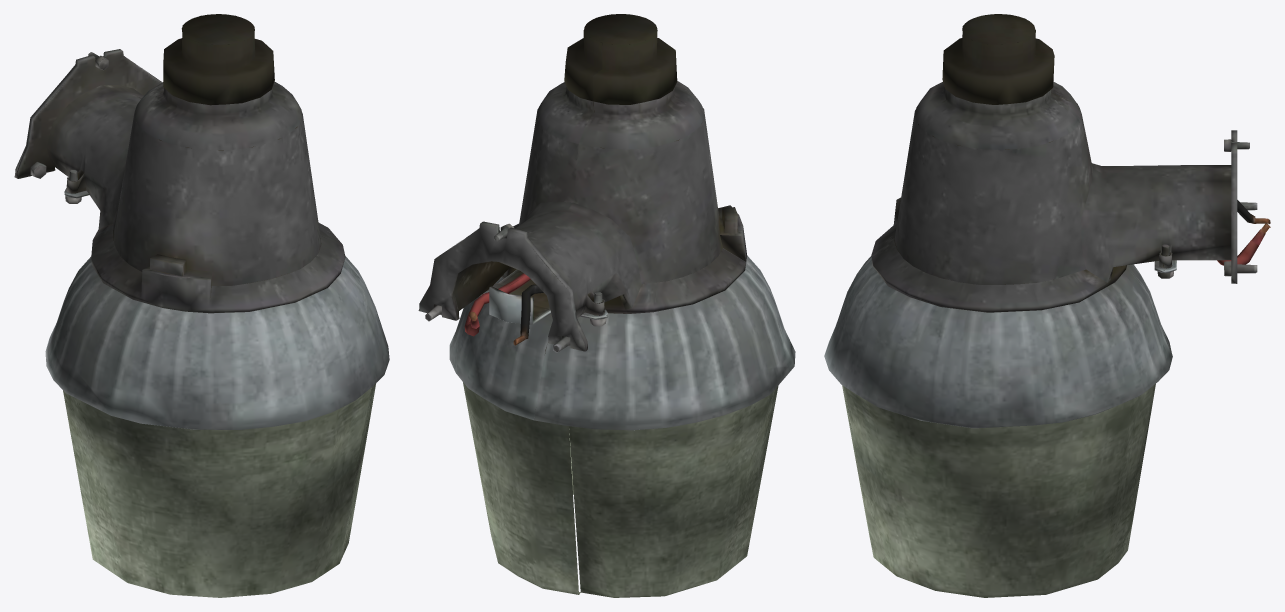
The model's file is security_light.glb.
The picture shows the model from 3 angles, left to right: view 1: azimuth 30°, elevation 25°; view 2: azimuth 150°, elevation 25°; view 3: azimuth 270°, elevation 25°; orthographic projection.
Visible parts, largest first — view 1: security_light; view 2: security_light; view 3: security_light.
Boxes of the visible parts, bbox=[...] form: security_light: bbox=[14, 14, 389, 597]; security_light: bbox=[418, 14, 795, 597]; security_light: bbox=[824, 14, 1270, 597].
Size of the model in its own units: 0.3225 by 0.5305 by 0.4171.
3 materials, 3 textured.
